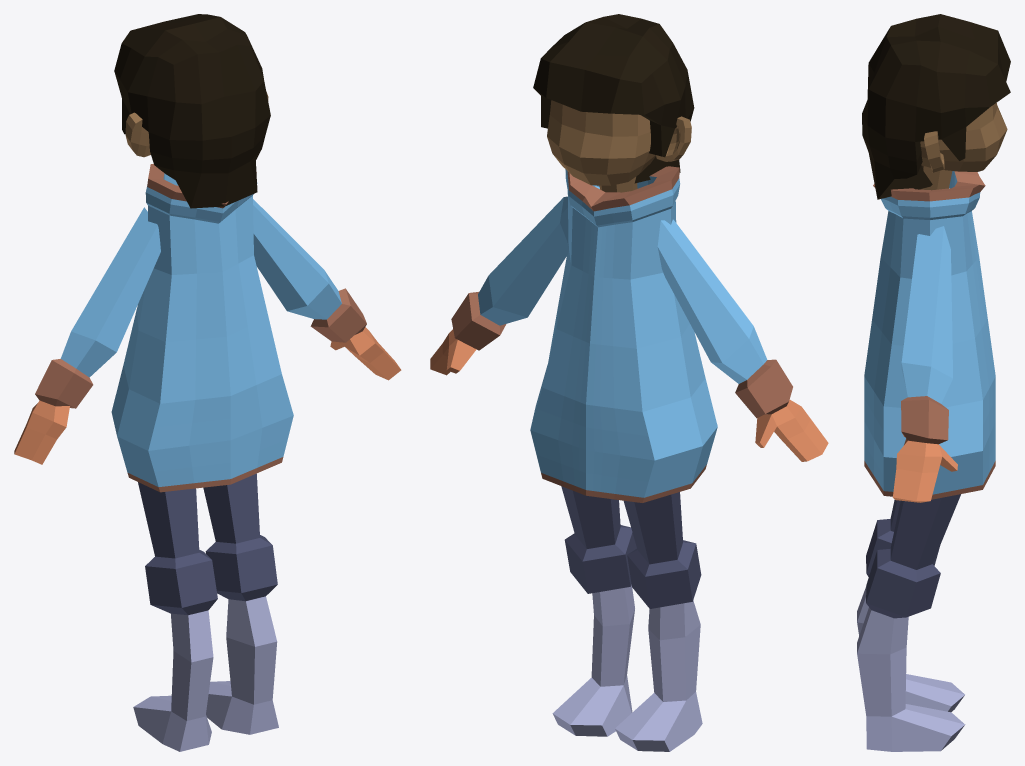
The model's file is npc_father.glb.
3 views of the same model, side by side, from view 1: azimuth 30°, elevation 25°; view 2: azimuth 150°, elevation 25°; view 3: azimuth 270°, elevation 25° (orthographic). The views are drawn at different scales.
Parts seen in each view (by area): view 1: Cube, Cylindre, Cube.004, Cylindre.001, Cube.002; view 2: Cube, Cylindre, Cylindre.001, Cube.004, Cube.001, Cube.002; view 3: Cube, Cylindre, Cube.004, Cylindre.001, Cube.001, Cube.002, Cylindre.002.
Part boxes in pixels (box(x1,y1,x2,y2)): Cube: box(111, 164, 293, 492); Cylindre: box(133, 473, 278, 751); Cube.004: box(114, 14, 270, 208); Cylindre.001: box(14, 199, 401, 464); Cube.002: box(125, 92, 268, 157); Cube: box(530, 166, 717, 502); Cylindre: box(552, 486, 702, 751); Cylindre.001: box(430, 196, 828, 461); Cube.004: box(533, 14, 694, 183); Cube.001: box(547, 100, 655, 185); Cube.002: box(656, 116, 691, 161); Cube: box(864, 171, 995, 499); Cylindre: box(857, 494, 965, 751); Cube.004: box(862, 14, 1010, 199); Cylindre.001: box(892, 226, 957, 502); Cube.001: box(920, 103, 1007, 171); Cube.002: box(924, 131, 944, 172); Cylindre.002: box(919, 165, 952, 190).
Bounding box in the file's own units: 2.55 × 4.41 × 0.881.
